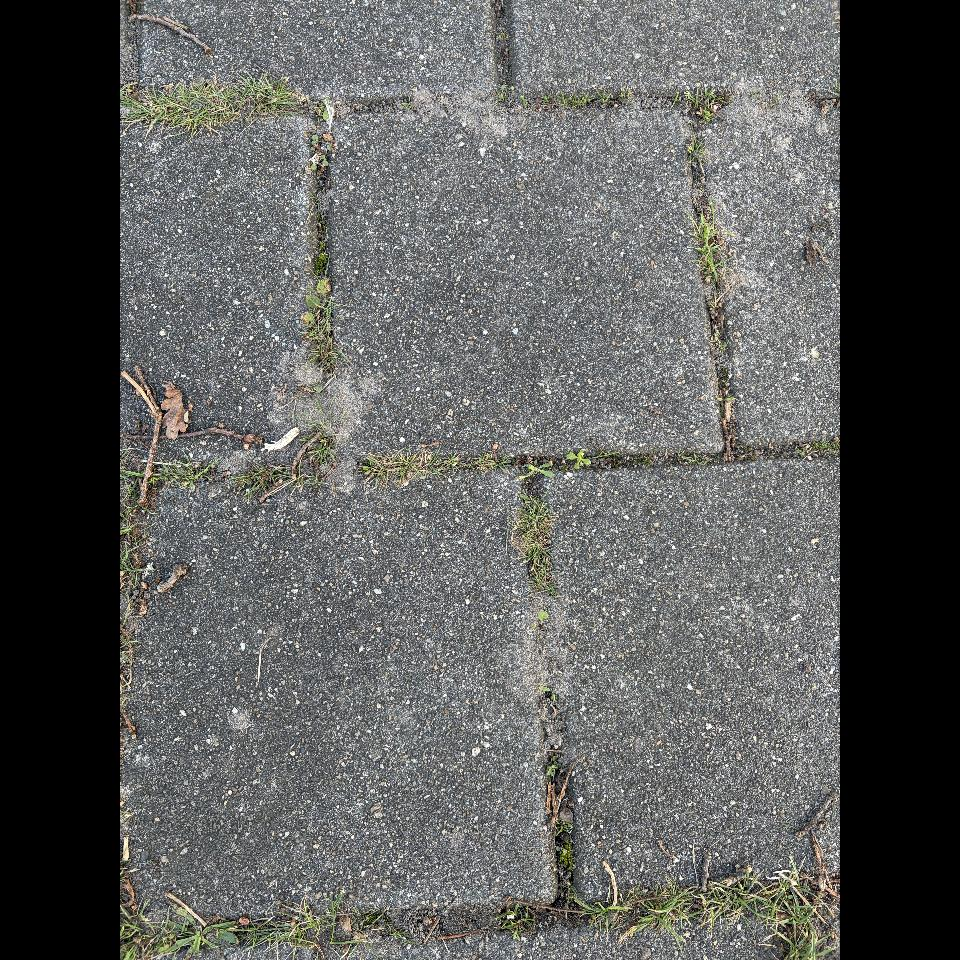weed: (121, 82, 211, 139), (357, 444, 446, 492), (301, 283, 349, 372), (231, 68, 304, 120), (165, 908, 238, 958), (513, 494, 558, 572), (228, 462, 297, 503), (192, 82, 248, 129), (574, 897, 631, 943), (689, 881, 736, 936), (771, 919, 835, 959), (733, 871, 782, 922), (628, 900, 686, 942), (174, 449, 223, 494), (300, 893, 342, 942), (778, 898, 819, 937), (237, 923, 301, 946), (694, 253, 734, 289), (685, 211, 726, 241), (658, 872, 701, 900), (656, 899, 691, 932), (503, 907, 535, 941), (153, 458, 182, 492), (307, 438, 336, 465), (466, 451, 497, 471), (436, 453, 465, 474), (496, 903, 520, 927), (304, 471, 329, 494), (388, 925, 417, 944), (520, 462, 552, 479), (557, 839, 573, 873), (628, 881, 652, 903), (697, 241, 723, 261), (566, 449, 590, 470), (497, 449, 516, 475), (688, 139, 708, 163), (120, 518, 142, 538), (312, 103, 330, 123), (528, 571, 545, 591), (680, 455, 707, 465), (540, 687, 555, 704), (544, 583, 561, 598), (555, 822, 573, 836), (705, 86, 716, 108), (558, 92, 573, 108), (700, 106, 715, 122), (685, 90, 699, 107), (569, 885, 584, 900), (546, 762, 559, 779), (822, 441, 840, 453), (309, 192, 319, 213), (537, 609, 548, 628), (401, 93, 413, 109), (571, 94, 582, 111), (581, 90, 593, 105), (597, 88, 610, 101), (311, 124, 321, 140), (671, 89, 679, 108), (719, 340, 729, 355), (709, 293, 717, 310), (520, 93, 529, 107), (496, 89, 507, 100), (319, 155, 329, 167), (538, 685, 551, 693), (541, 93, 551, 103), (709, 333, 720, 342), (716, 397, 739, 401), (795, 449, 803, 459), (812, 441, 822, 449), (620, 87, 626, 98), (626, 88, 631, 99), (569, 893, 575, 902), (312, 140, 322, 145), (311, 163, 317, 170), (501, 84, 509, 89), (327, 144, 333, 150), (551, 755, 557, 761), (311, 146, 316, 152), (558, 763, 562, 768), (772, 452, 776, 456)
